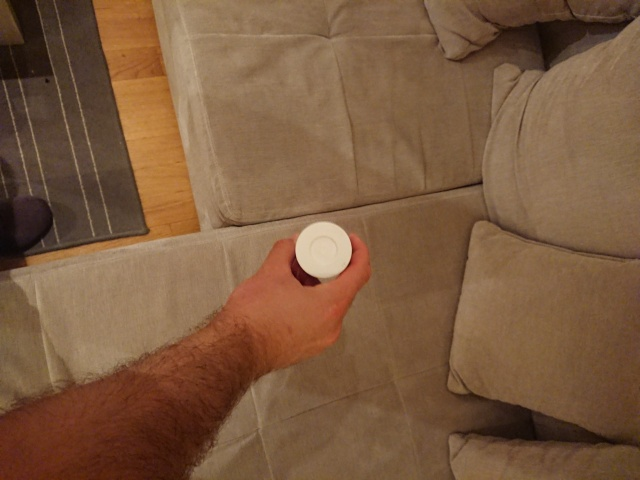Solana Pag Fine Sea Salt 250g: (292, 219, 355, 281)
